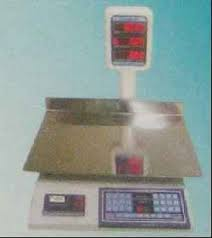Industrial Scale: (22, 5, 204, 236)
